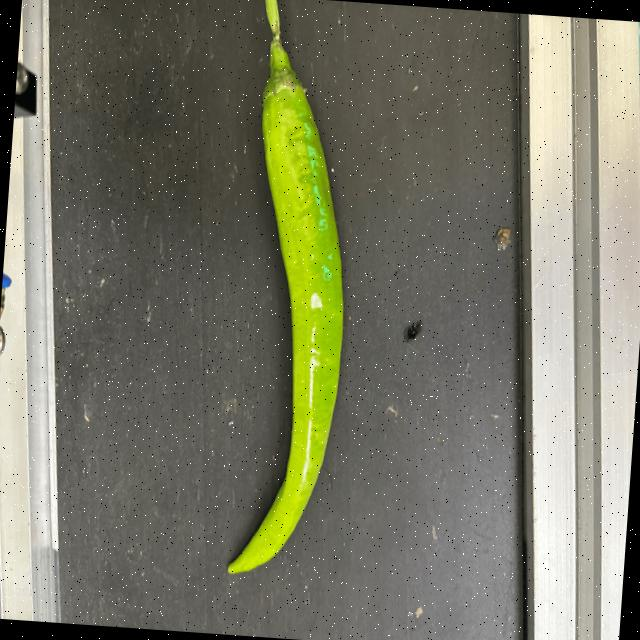chili: (225, 70, 345, 574)
